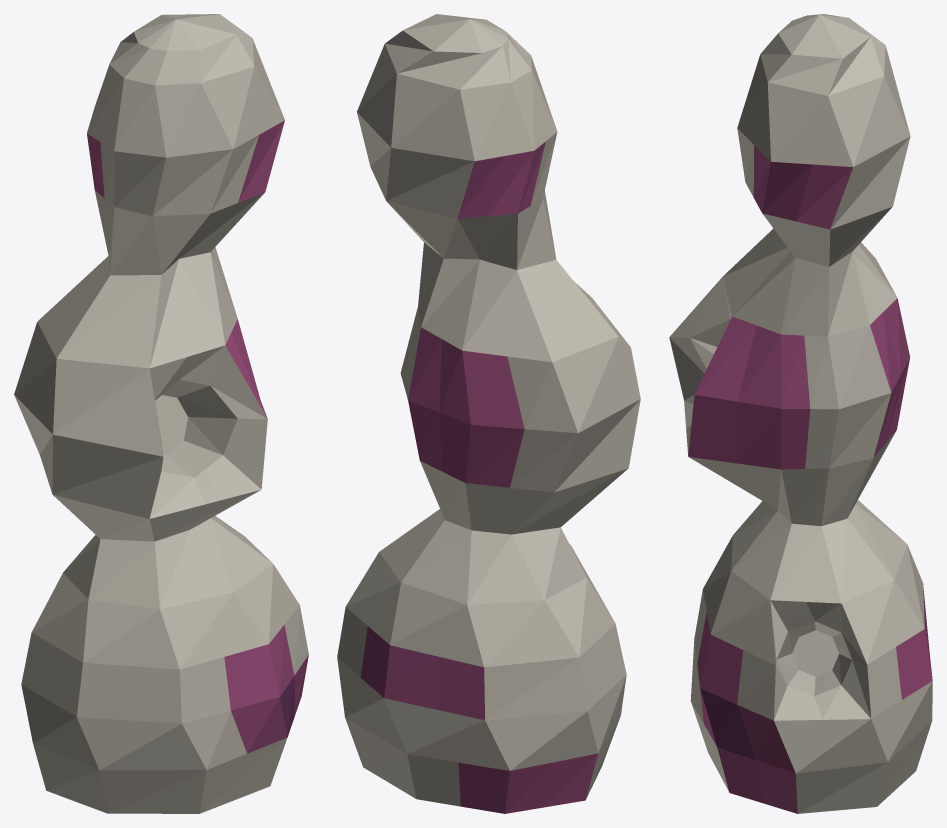
The model's file is rock-bommie-column-0f8a9b.glb.
The picture shows the model from 3 angles, left to right: view 1: azimuth 30°, elevation 25°; view 2: azimuth 150°, elevation 25°; view 3: azimuth 270°, elevation 25°; orthographic projection.
Parts seen in each view (by area): view 1: bommie-column; view 2: bommie-column; view 3: bommie-column.
Part boxes in pixels (x1,y1,x2,y2): bommie-column: (14,14,308,813); bommie-column: (337,14,640,813); bommie-column: (669,14,932,813).
Bounding box in the file's own units: 0.1647 × 0.45 × 0.1426.
